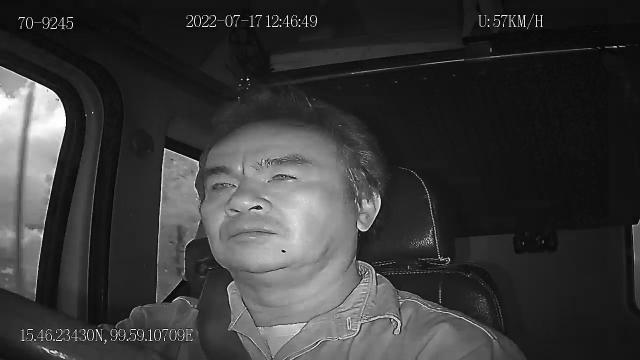SafeDriving: (261, 160, 309, 190), (202, 170, 242, 199)
Seatbelt: (194, 268, 253, 360)
